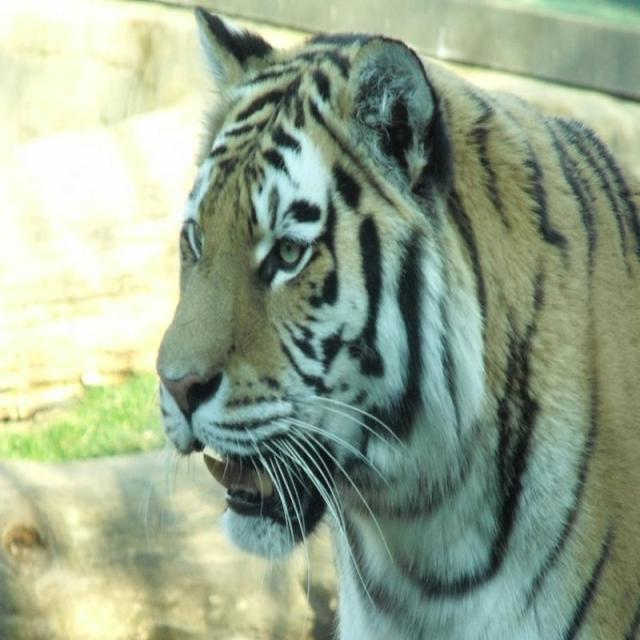Tiger: (132, 2, 634, 625)
